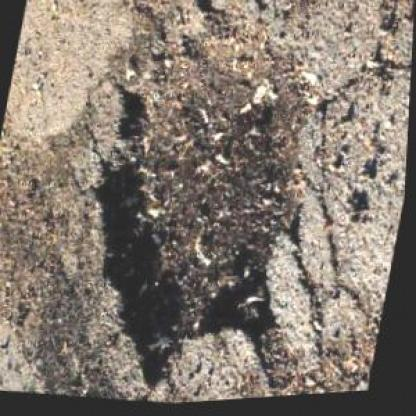pothole: (56, 0, 345, 410)
